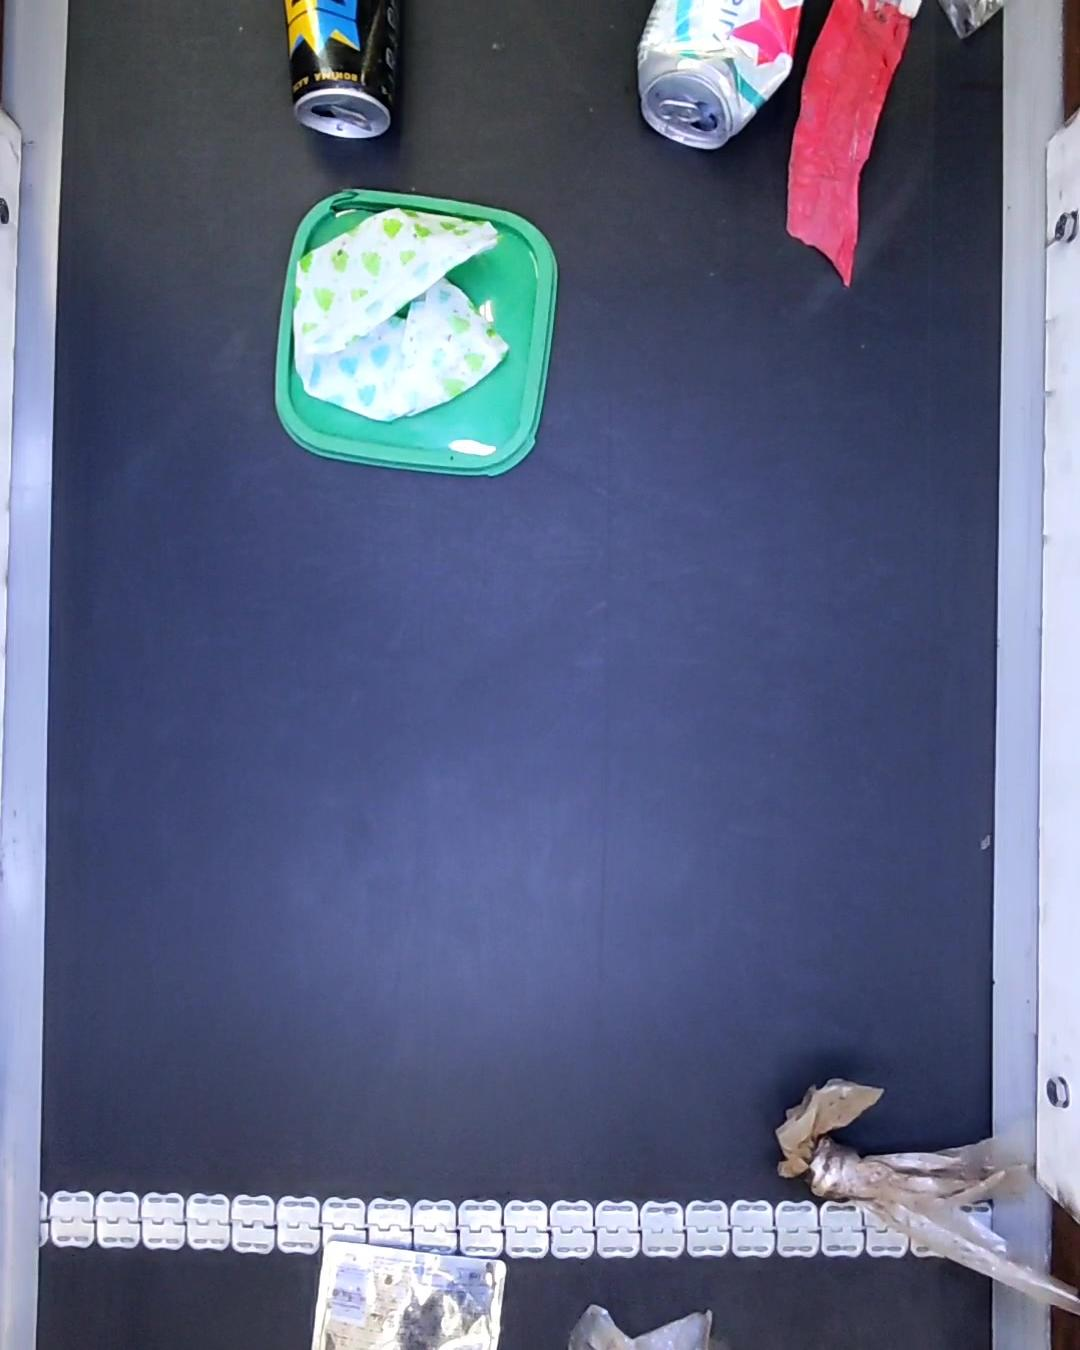Drankblikjes: (644, 0, 804, 148), (281, 0, 402, 138)
Plastic folies of stukken daarvan 2.5- 50 cm: (769, 1074, 1080, 1314), (566, 1303, 742, 1350)
